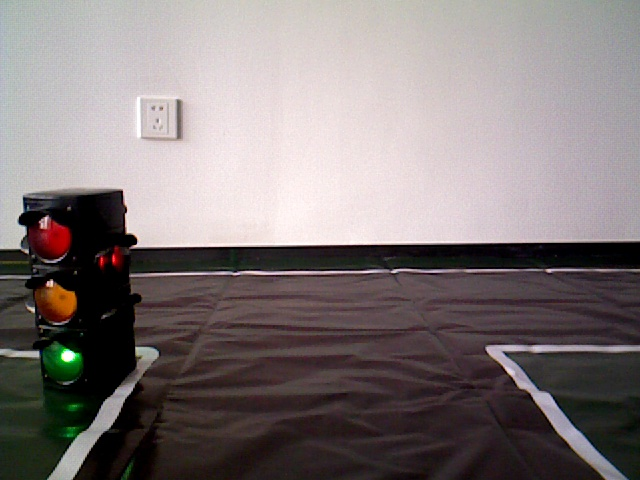green: (26, 196, 125, 375)
